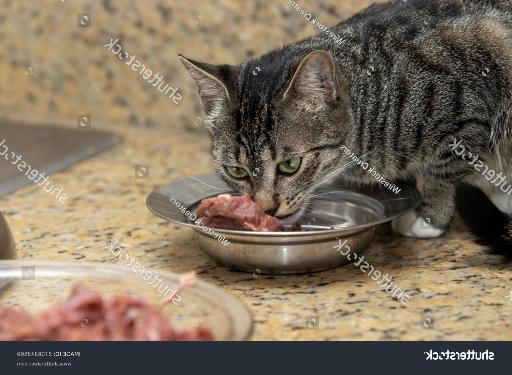cat_eating: (146, 0, 512, 274)
